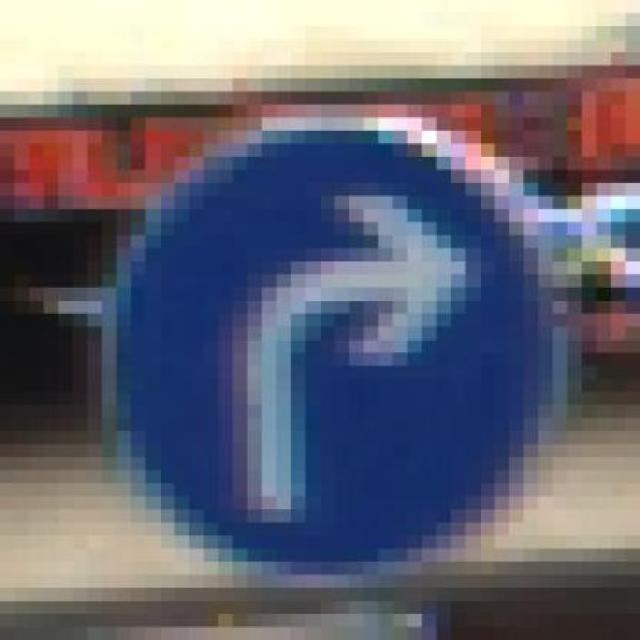Turn right ahead: (116, 104, 567, 562)
